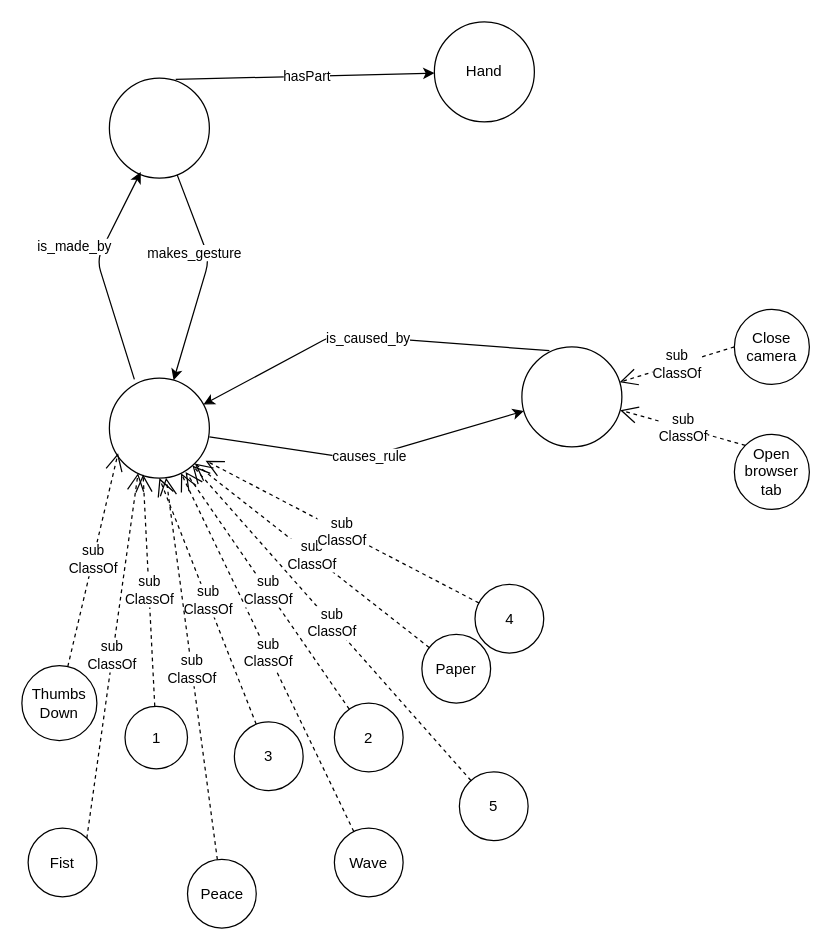
The diagram is 831 pixels wide and 950 high, and some of its shapes have lost their labels. Each missing label, with the box of its shape:
Gestures: (108, 377, 209, 478)
Rule: (521, 346, 622, 447)
User: (108, 77, 209, 178)
